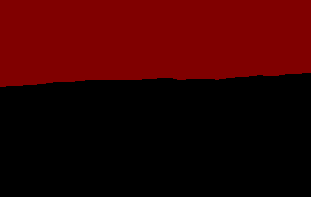Sky: (1, 1, 310, 87)
